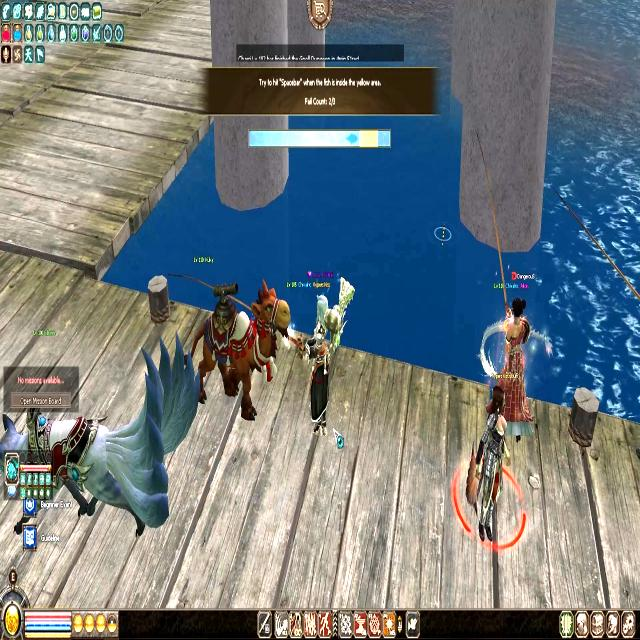fishes: (345, 132, 359, 146)
